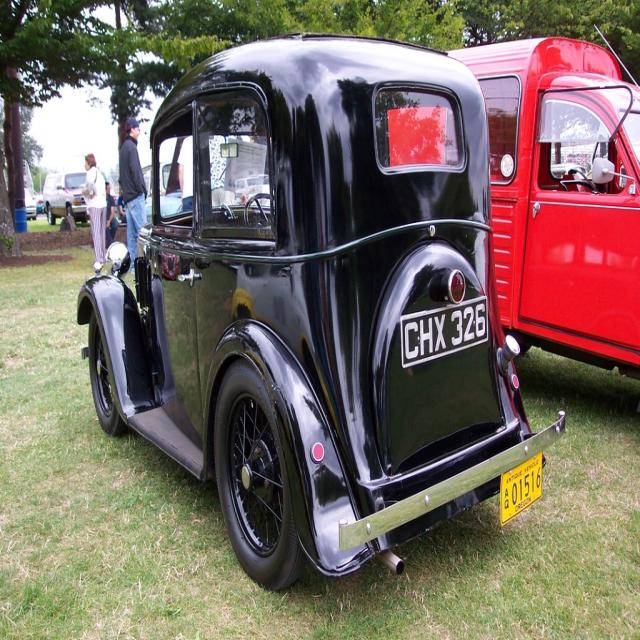car: (75, 34, 565, 589)
